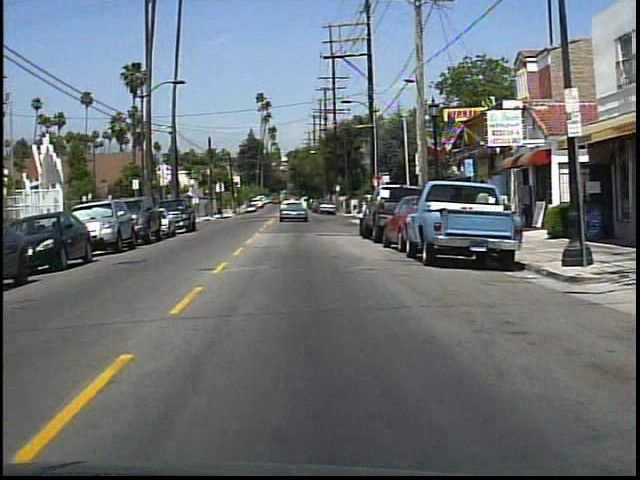person: (475, 184, 499, 233)
